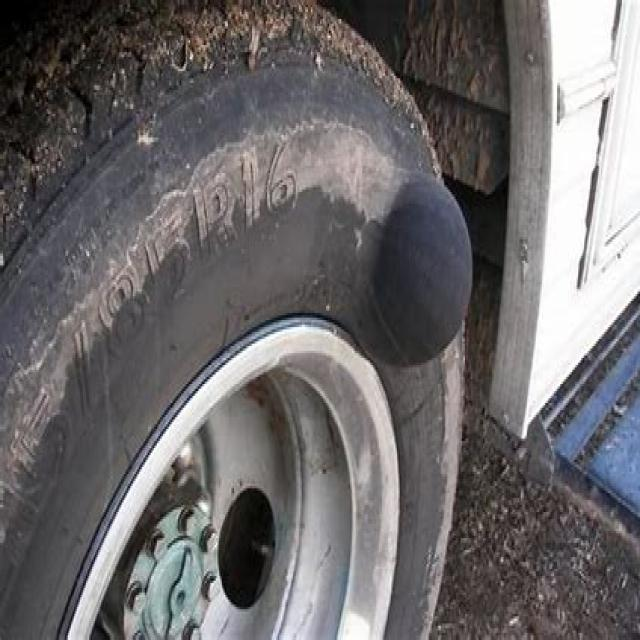Bulge: (363, 160, 480, 380)
